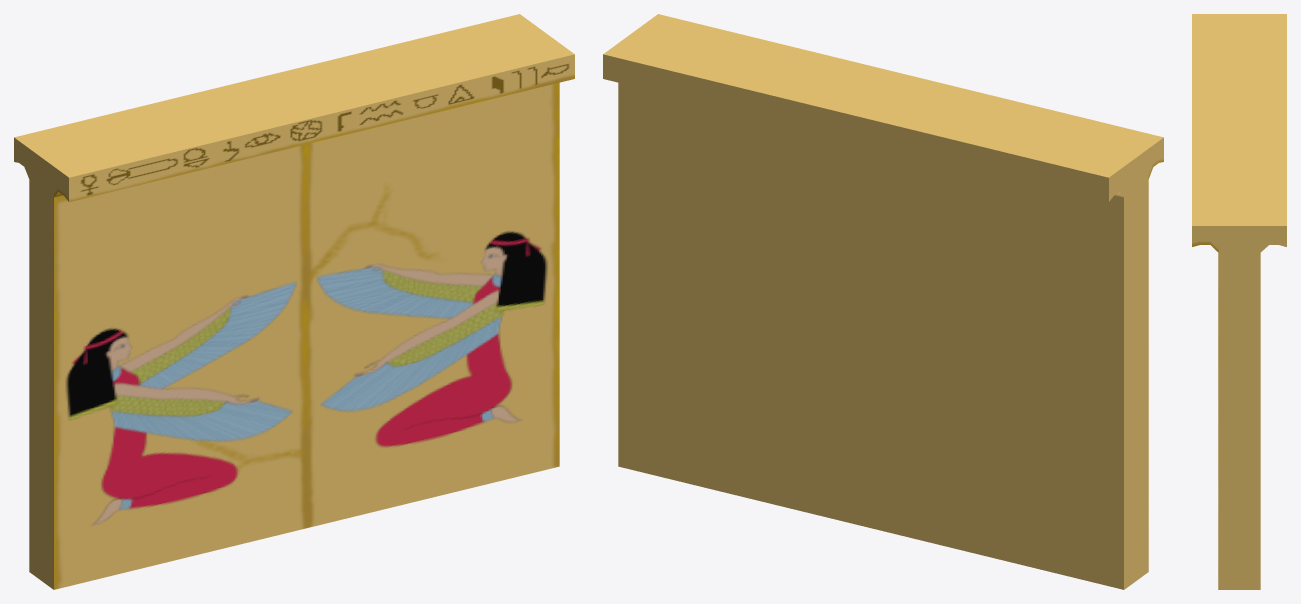
The model's file is finalDoor.fbx.
3 views of the same model, side by side, from view 1: azimuth 30°, elevation 25°; view 2: azimuth 150°, elevation 25°; view 3: azimuth 270°, elevation 25° (orthographic). The views are drawn at different scales.
Visible parts, largest first — view 1: pCube4; view 2: pCube4; view 3: pCube4.
Boxes of the visible parts, <box> form: pCube4: <box>14,14,574,589</box>; pCube4: <box>603,14,1163,589</box>; pCube4: <box>1192,14,1286,589</box>.
Size of the model in its own units: 5 by 4 by 0.9434.
1 material, 1 textured.
